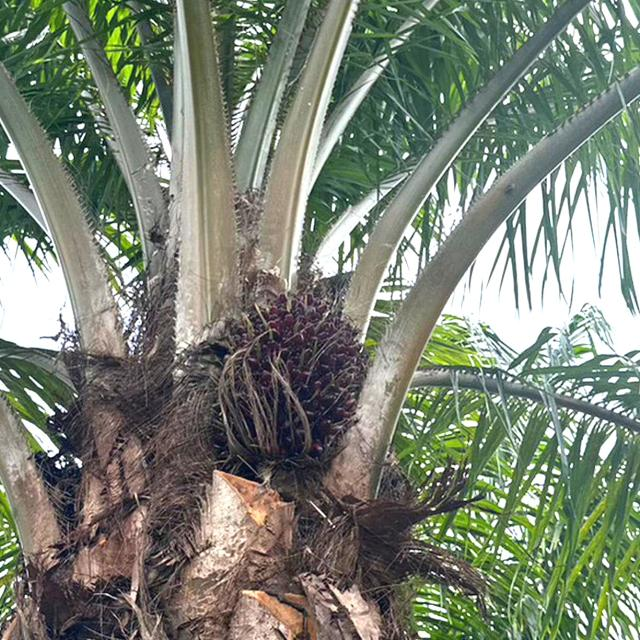ripe: (209, 289, 375, 455)
